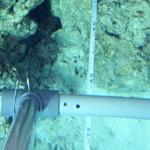dead: (3, 1, 145, 145)
